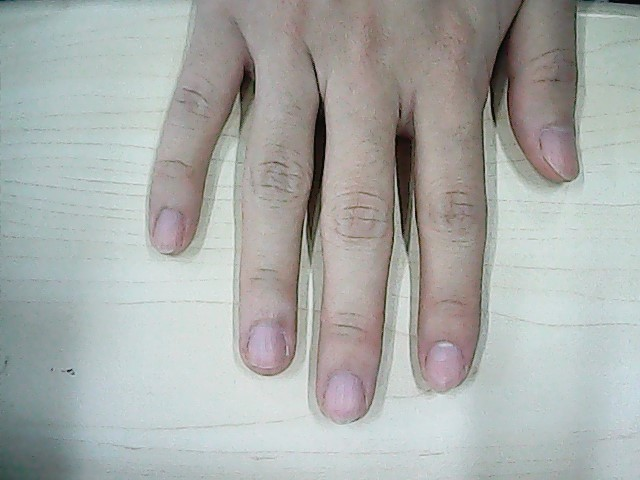nail: (323, 369, 368, 424), (538, 124, 580, 182), (424, 338, 465, 396), (247, 320, 291, 373), (150, 204, 187, 254)
